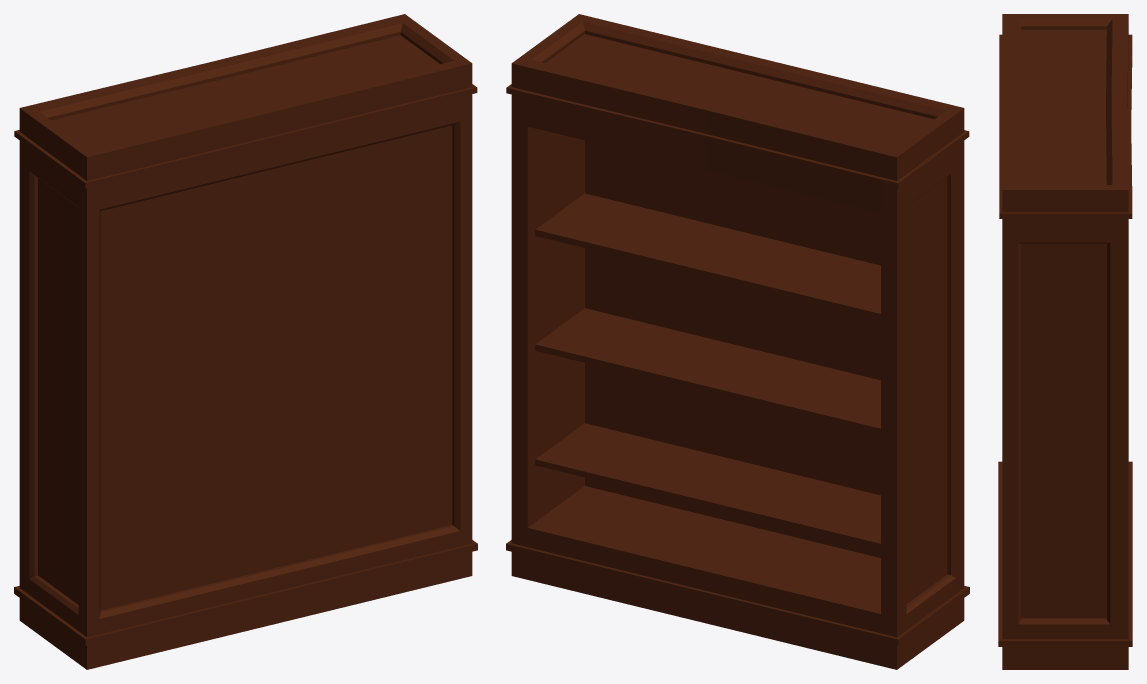
The model's file is Bookshelf.fbx.
3 renders of one model, left to right at view 1: azimuth 30°, elevation 25°; view 2: azimuth 150°, elevation 25°; view 3: azimuth 270°, elevation 25°, orthographic. The views are drawn at different scales.
Visible parts, largest first — view 1: Bookshelf; view 2: Bookshelf; view 3: Bookshelf.
Boxes of the visible parts, x1=… form: Bookshelf: x1=14, y1=14, x2=477, y2=669; Bookshelf: x1=506, y1=14, x2=969, y2=669; Bookshelf: x1=998, y1=14, x2=1132, y2=669.
Size of the model in its own units: 101 by 126 by 31.99.
